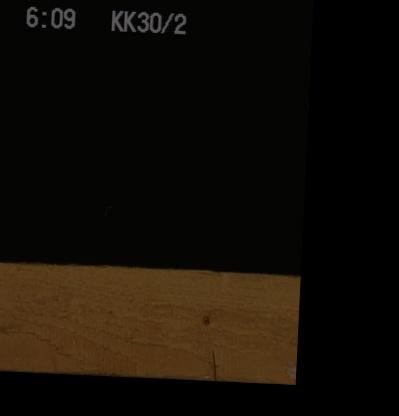dry_knot: (200, 312, 209, 325)
